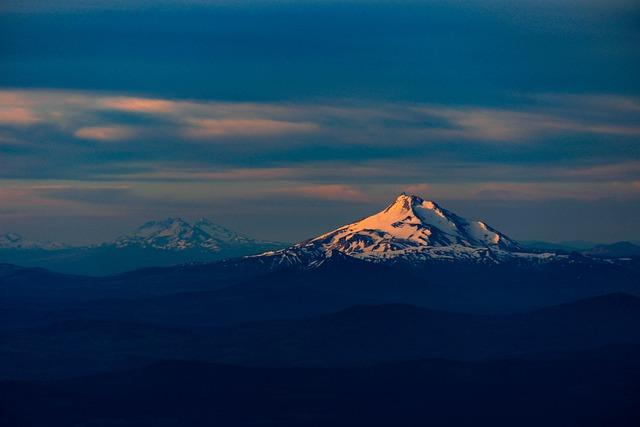Non_Gorille: (131, 66, 576, 348)
